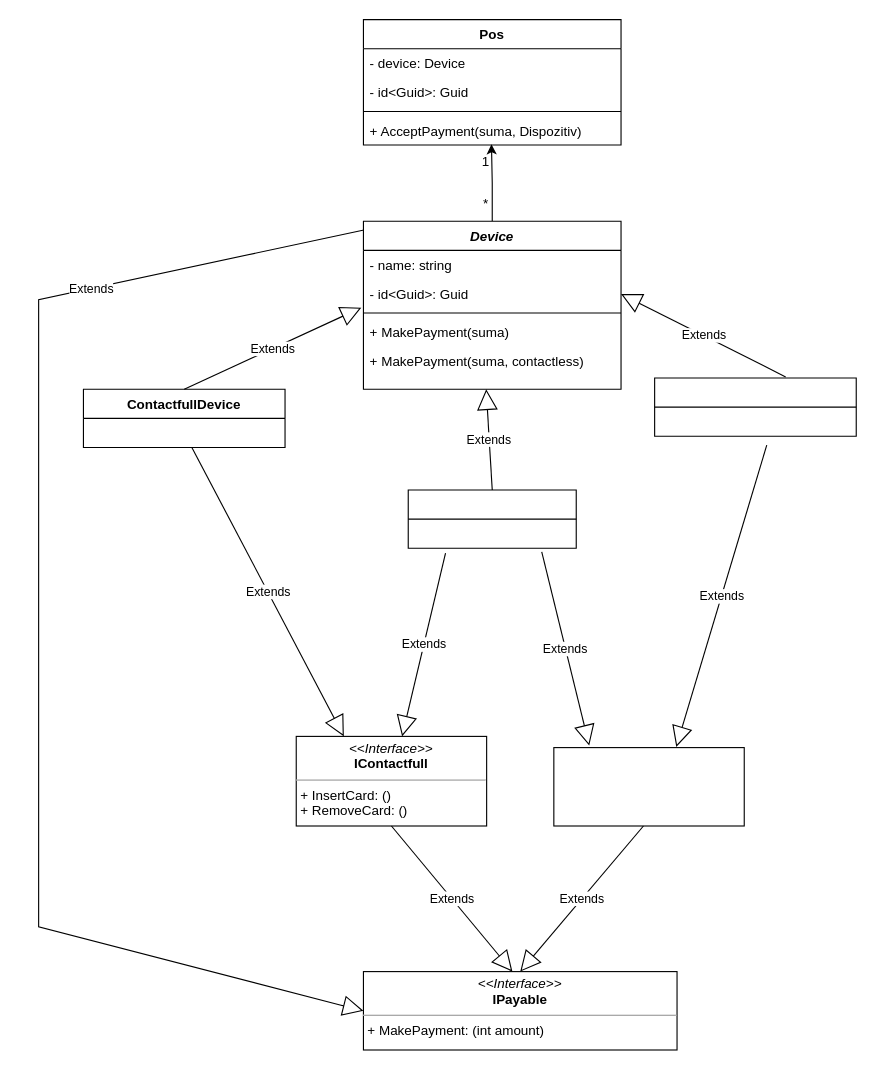
Image size: 876x1070. Some labels were removed from this diagram. The centre of each missing label's shape, as x and y in pixels:
<<Interface>> IC ontactless + ApproachCard(): the point at 648,786
ContactlessDevice: the point at 491,518
PhoneDevice: the point at 755,406
